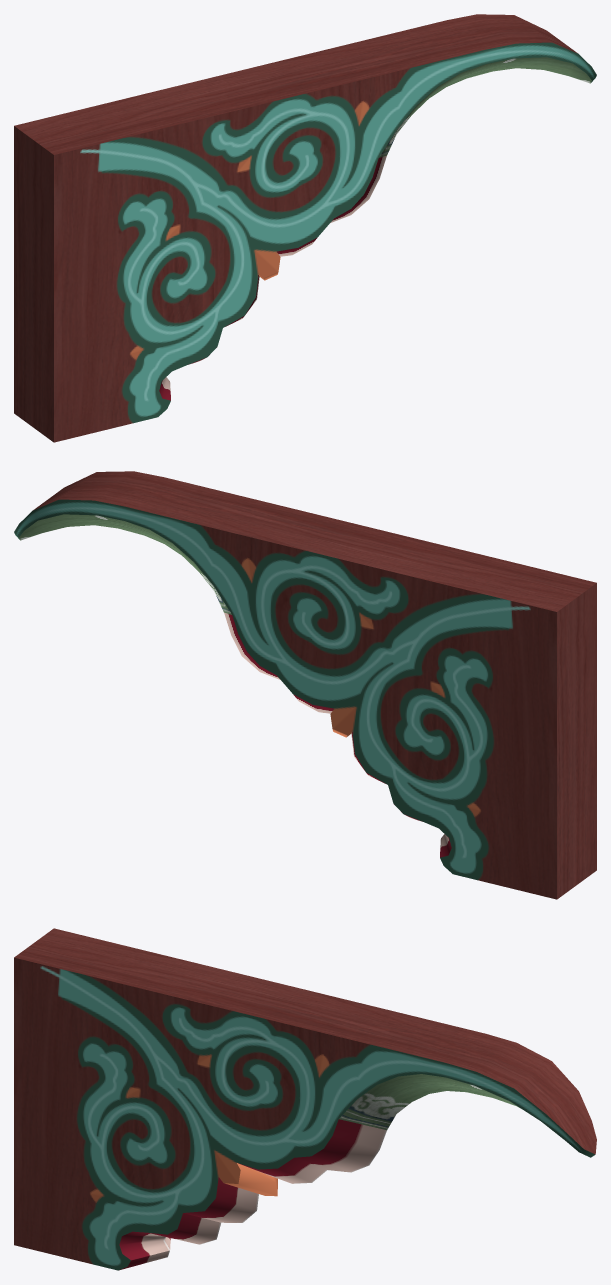
The model's file is SM_SJJ_HG_Boaj01A.fbx.
3 views of the same model, one above another, from view 1: azimuth 30°, elevation 25°; view 2: azimuth 150°, elevation 25°; view 3: azimuth 330°, elevation 25° (orthographic).
Parts seen in each view (by area): view 1: SM_SJJ_HG_Boaj01A; view 2: SM_SJJ_HG_Boaj01A; view 3: SM_SJJ_HG_Boaj01A.
Part boxes in pixels (box(x1,y1,x2,y2)): SM_SJJ_HG_Boaj01A: box(14, 14, 596, 442); SM_SJJ_HG_Boaj01A: box(14, 471, 596, 899); SM_SJJ_HG_Boaj01A: box(14, 928, 596, 1270).
Bounding box in the file's own units: 72.56 × 8.93 × 35.5.
1 material, 1 textured.
